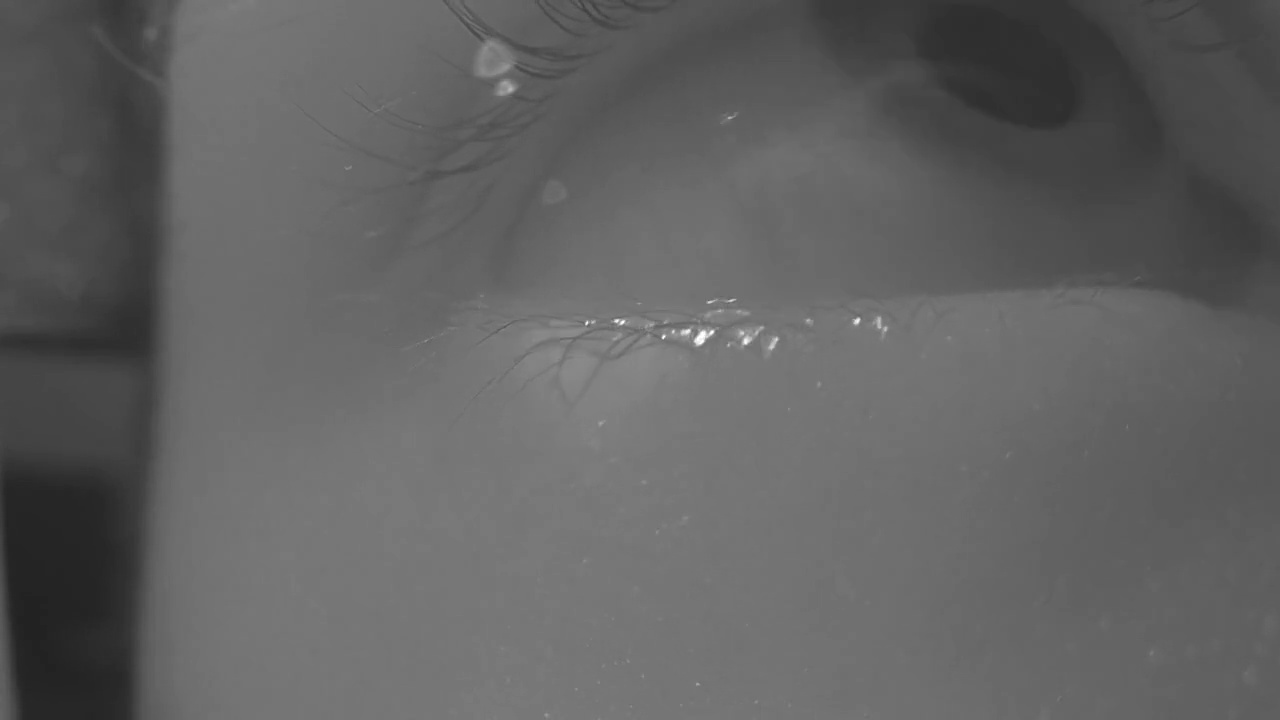pupil: (921, 7, 1082, 130)
